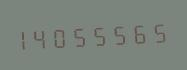five: (74, 21, 92, 50), (93, 20, 111, 49), (112, 19, 130, 48), (150, 17, 168, 46)
four: (36, 23, 54, 52)
one: (17, 24, 35, 53)
six: (131, 18, 149, 47)
zero: (55, 22, 73, 51)
